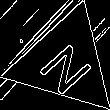N_NE: (32, 30, 98, 94)
